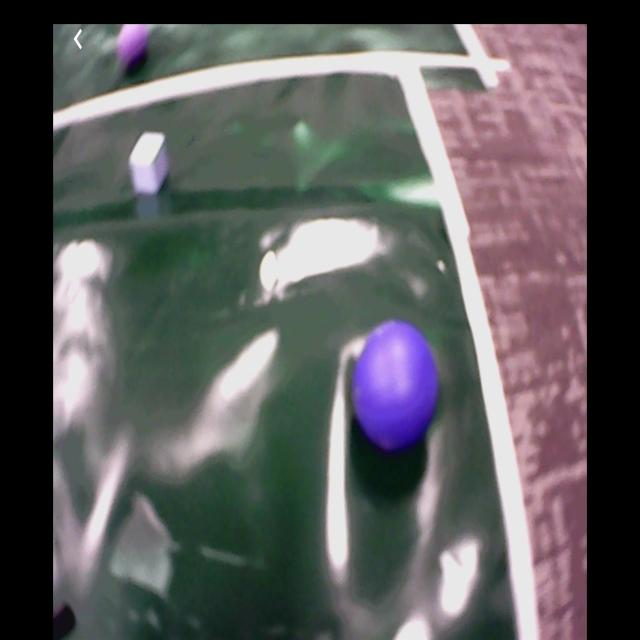ball: (353, 323, 441, 445), (120, 28, 149, 70)
